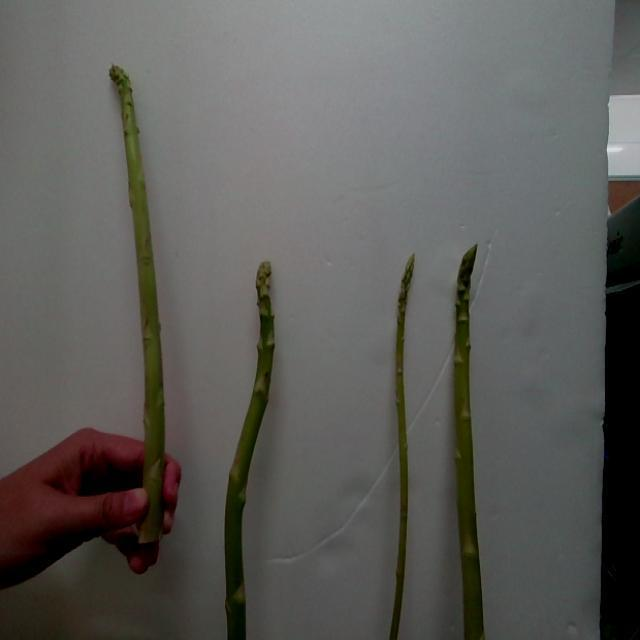aspargus: (110, 67, 170, 571), (222, 262, 276, 640), (451, 246, 486, 640), (389, 257, 415, 640)
